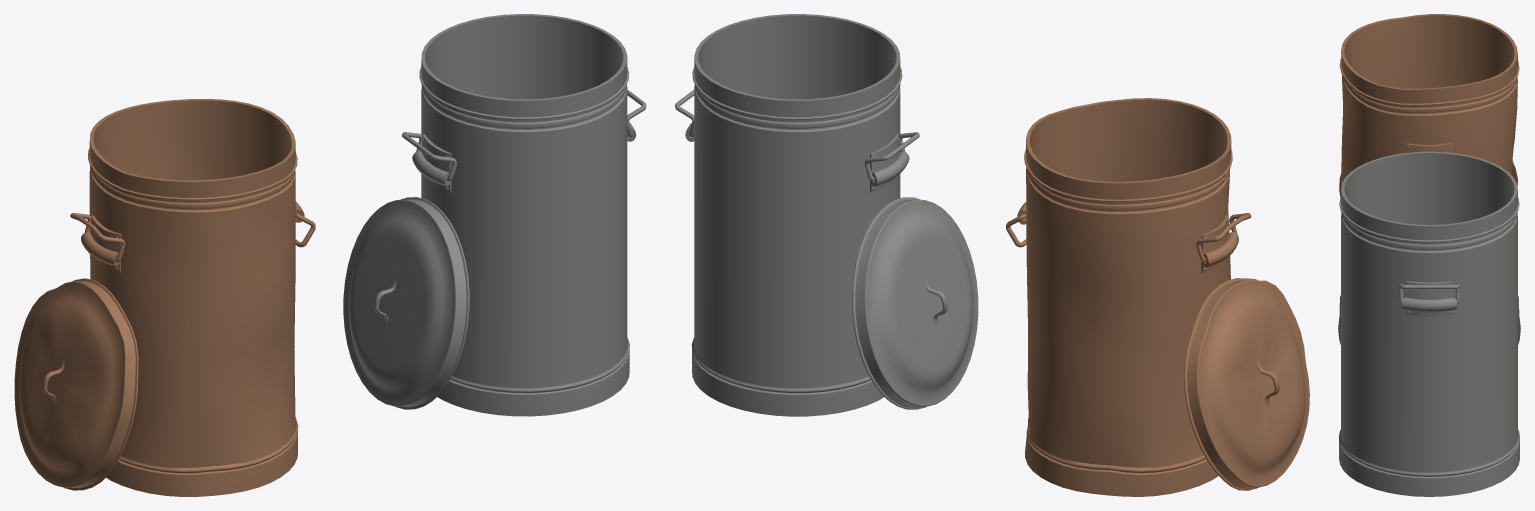
Rendered from metal_trash_can.gltf.
The picture shows the model from 3 angles, left to right: view 1: azimuth 30°, elevation 25°; view 2: azimuth 150°, elevation 25°; view 3: azimuth 270°, elevation 25°; orthographic projection. The views are drawn at different scales.
Visible parts, largest first — view 1: metal_trash_can, metal_trash_can_rust, metal_trash_can_lid, metal_trash_can_rust_lid; view 2: metal_trash_can, metal_trash_can_rust, metal_trash_can_lid, metal_trash_can_rust_lid; view 3: metal_trash_can, metal_trash_can_rust, metal_trash_can_handle_right.
Boxes of the visible parts, bbox=[...] form: metal_trash_can: bbox=[412, 14, 636, 416]; metal_trash_can_rust: bbox=[81, 99, 304, 496]; metal_trash_can_lid: bbox=[343, 197, 469, 409]; metal_trash_can_rust_lid: bbox=[14, 278, 138, 490]; metal_trash_can: bbox=[685, 14, 909, 416]; metal_trash_can_rust: bbox=[1017, 98, 1238, 496]; metal_trash_can_lid: bbox=[852, 197, 978, 409]; metal_trash_can_rust_lid: bbox=[1183, 278, 1309, 490]; metal_trash_can: bbox=[1338, 151, 1519, 496]; metal_trash_can_rust: bbox=[1339, 14, 1519, 316]; metal_trash_can_handle_right: bbox=[1399, 283, 1459, 303].
Bounding box in the file's own units: 1.78 × 0.9062 × 0.5563.
